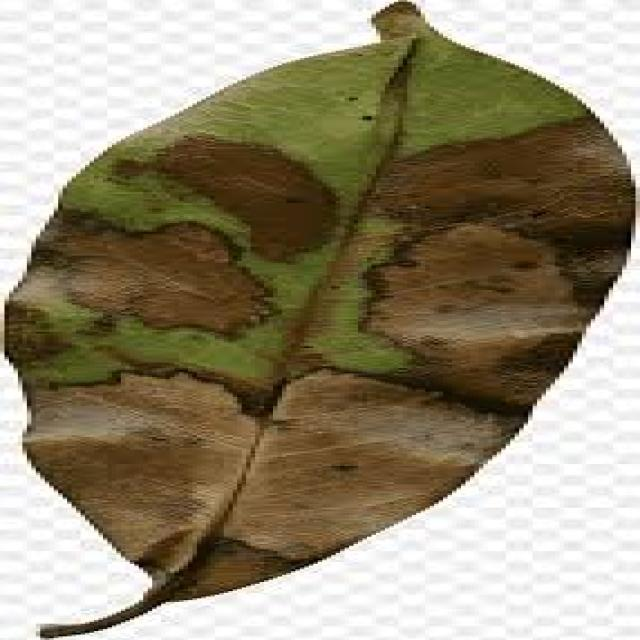leaf: (2, 1, 635, 633)
